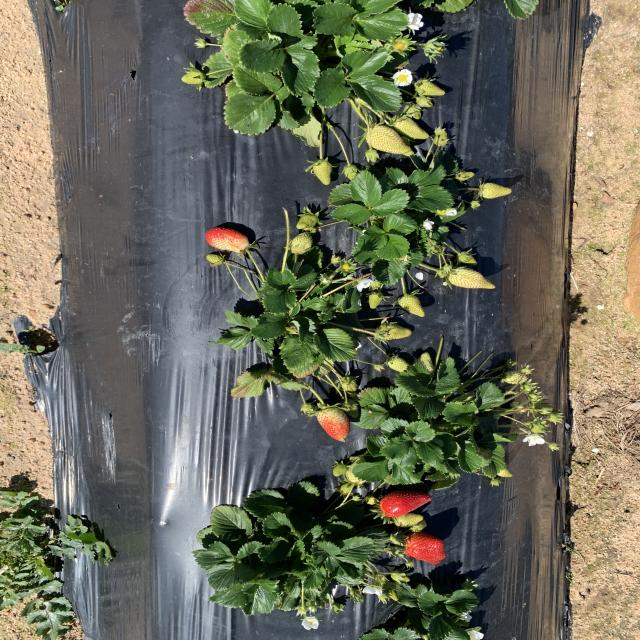unripe: (376, 490, 437, 518), (405, 534, 447, 566), (314, 409, 350, 443), (205, 225, 250, 252)
